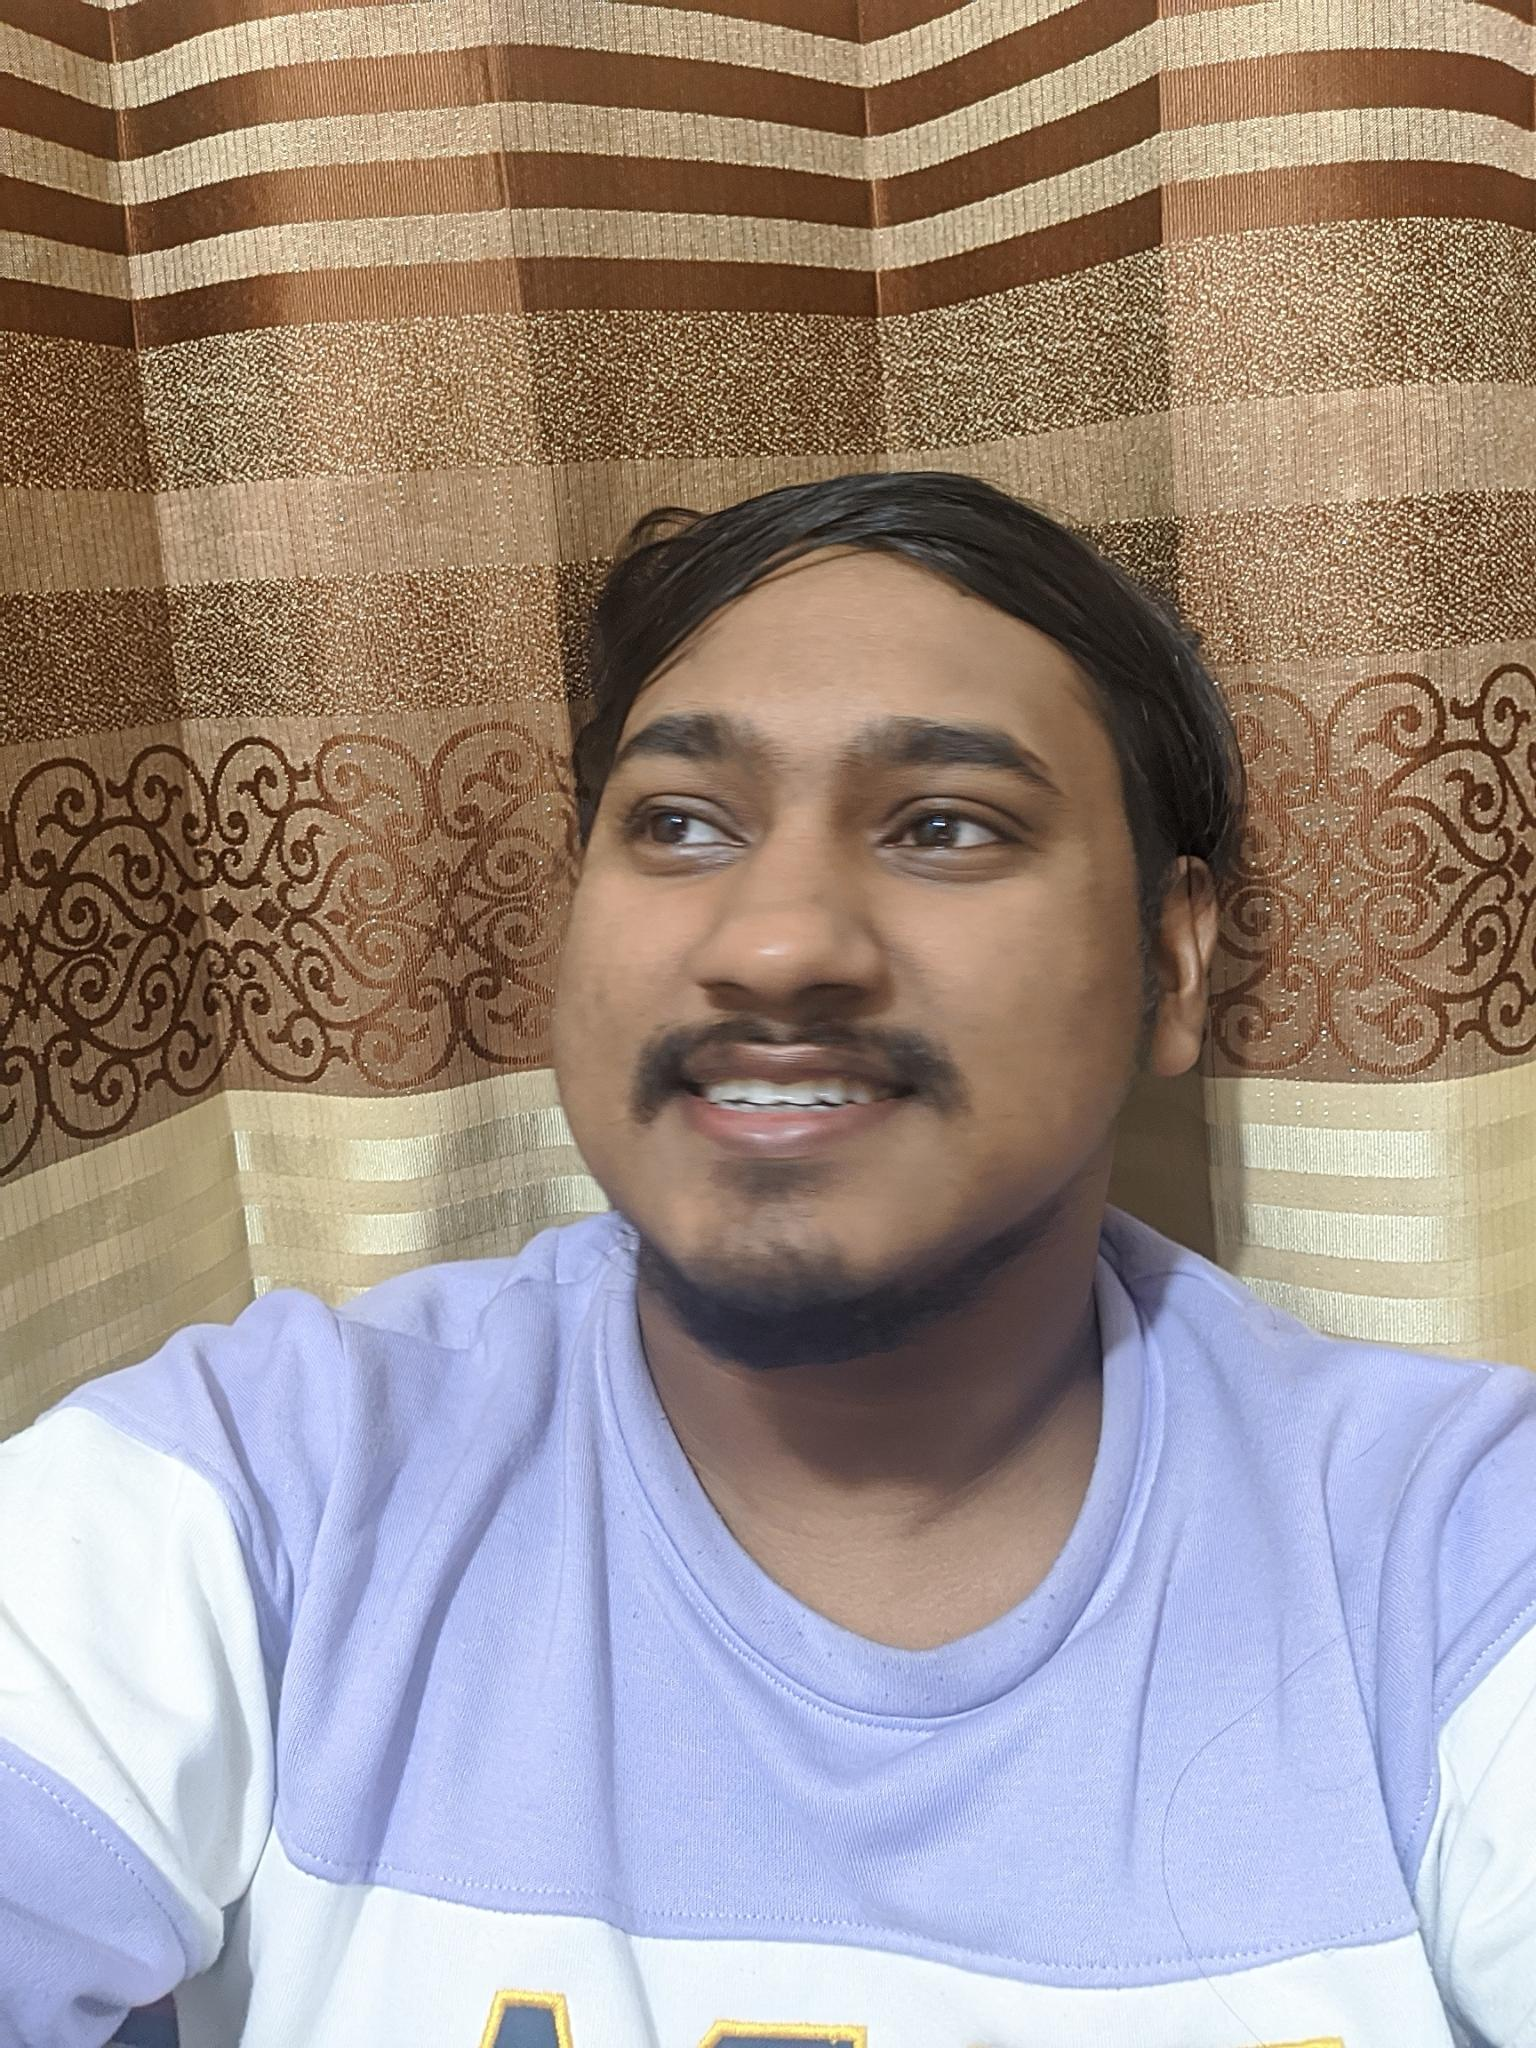Happy: (534, 622, 1155, 1340)
